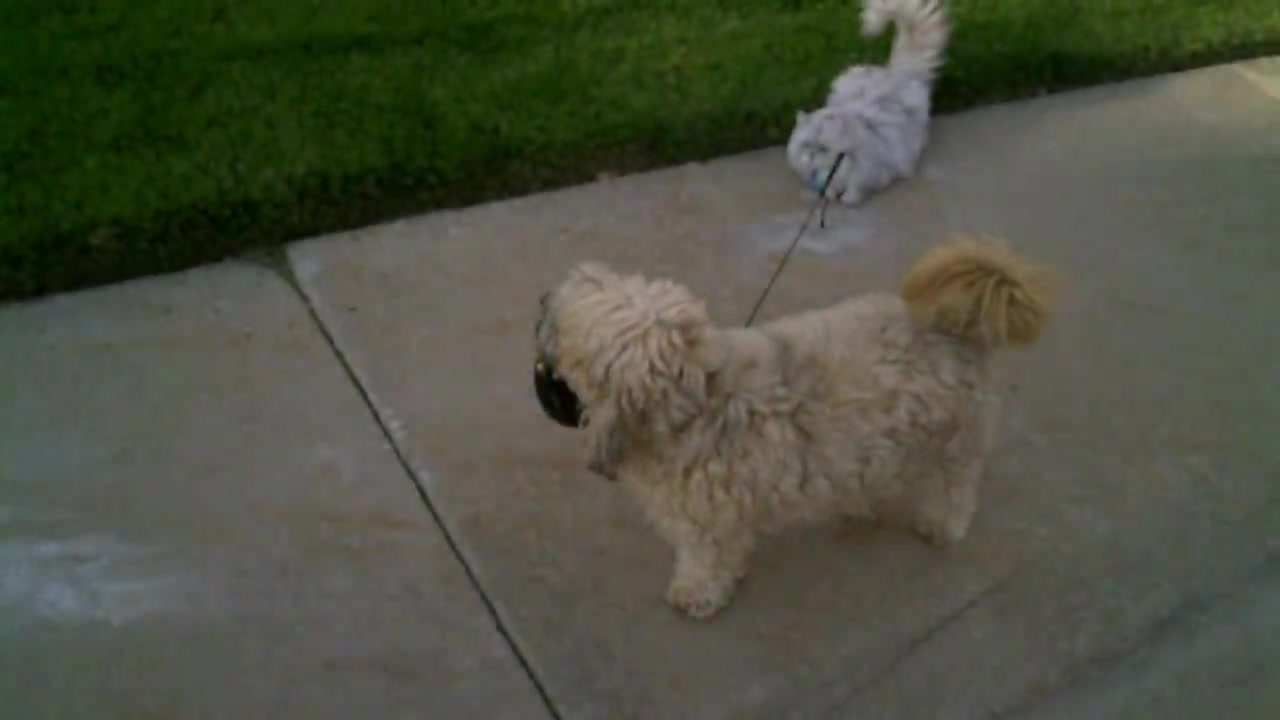dog: (540, 228, 1046, 619)
